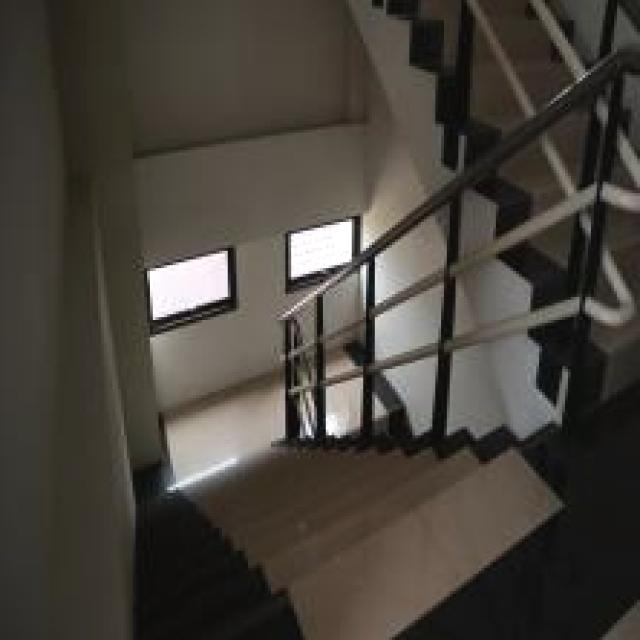downstair: (139, 465, 598, 640)
